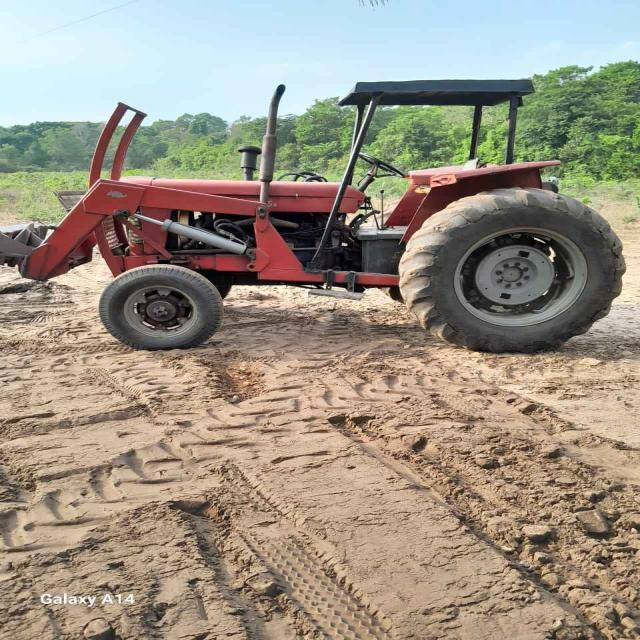Tratores - v5 YOLO V8L 2024-11-13: (99, 75, 624, 357)
